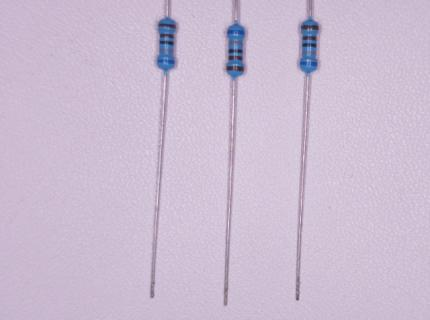Black band: (301, 43, 317, 48), (228, 49, 242, 54), (159, 41, 174, 45)
Blue band: (300, 61, 318, 66), (226, 29, 244, 34), (157, 59, 175, 64)
Brown band: (158, 23, 176, 29), (301, 24, 319, 30), (226, 66, 244, 71), (159, 34, 174, 39), (229, 56, 243, 60), (302, 36, 316, 40)
Grey band: (228, 40, 243, 45), (159, 48, 173, 52), (302, 50, 316, 54)
